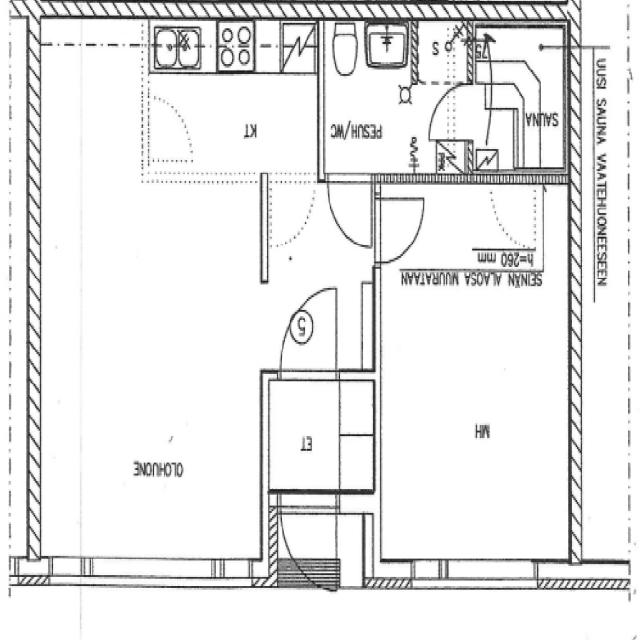door: (280, 491, 336, 596), (280, 289, 336, 379), (372, 198, 426, 262), (328, 173, 370, 245), (428, 84, 476, 139)
